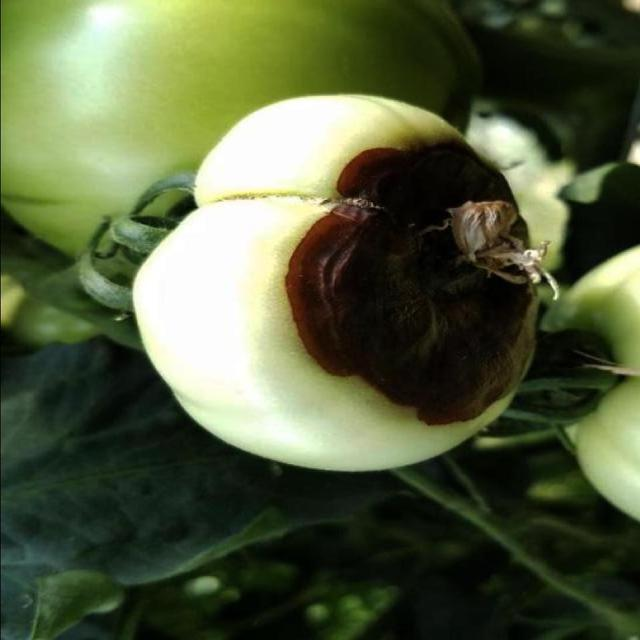Blossom End Rot Fruit: (183, 94, 360, 288)
